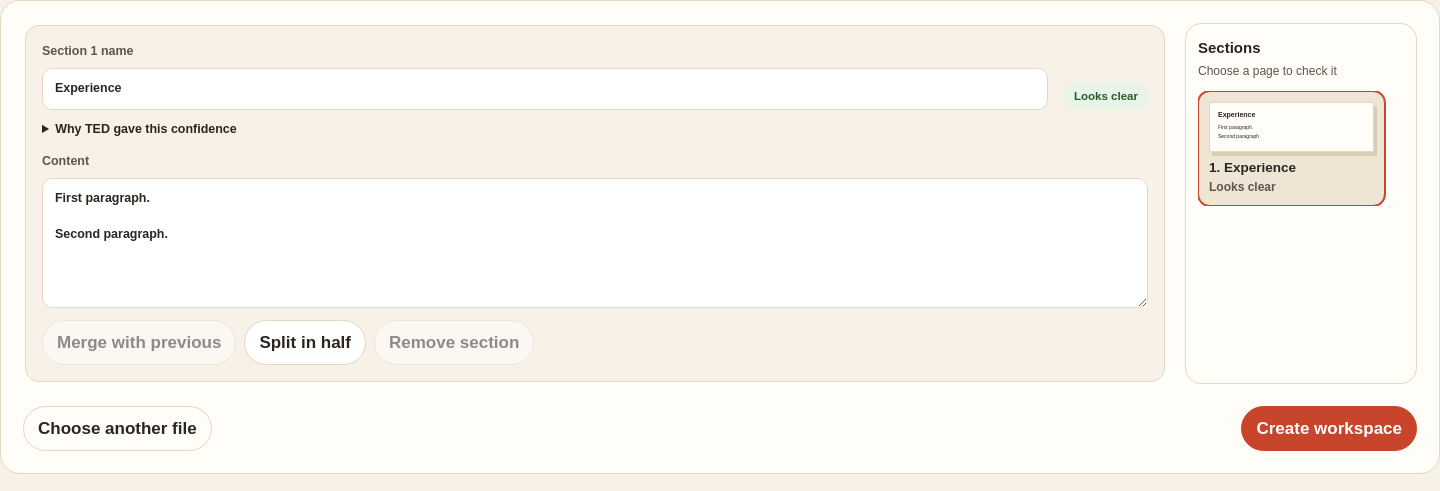
it: ImportReviewPanel › allows sections to be split before confirmation
Click the button "Split in half": (305, 342) [244, 320, 366, 365]
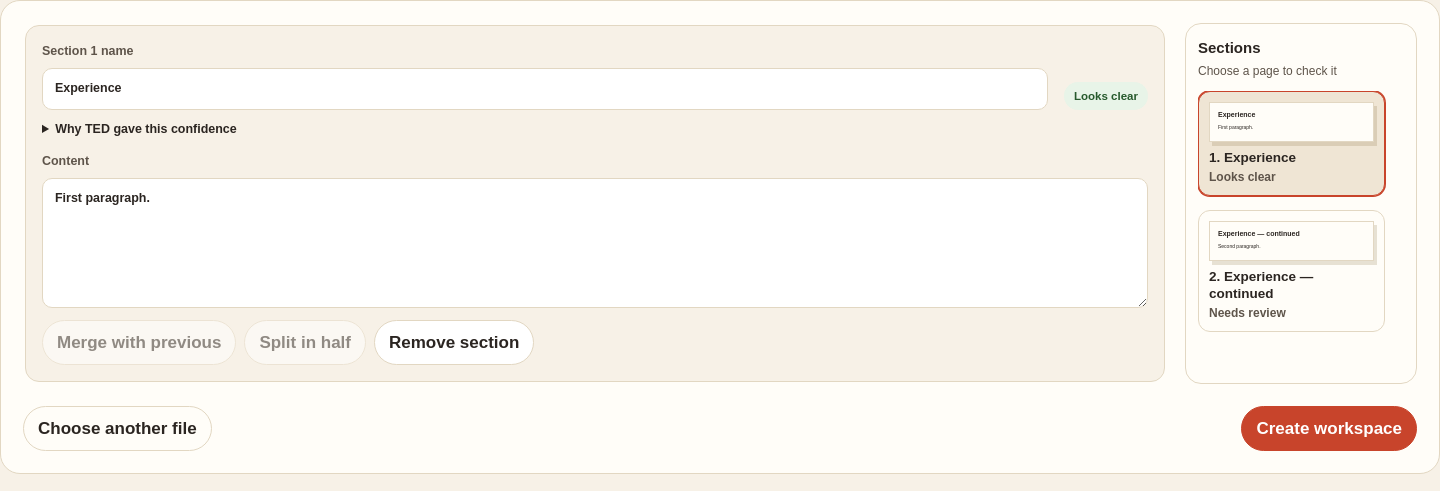
Expected: the button with aria-label "Edit section 1: Experience" is shown, [1198, 91, 1385, 196]
Expected: the button with aria-label "Edit section 2: Experience — continued" is shown, [1198, 210, 1385, 332]
